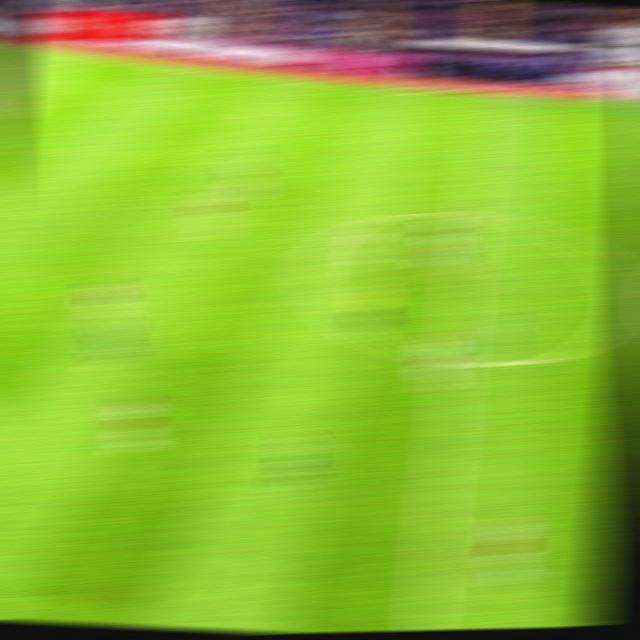bigarea_top_inner: (7, 93, 43, 114)
halfcircle_bottom: (433, 345, 475, 374)
halfcircle_top: (449, 199, 492, 226)
midline_top_intersection: (468, 84, 504, 105)
